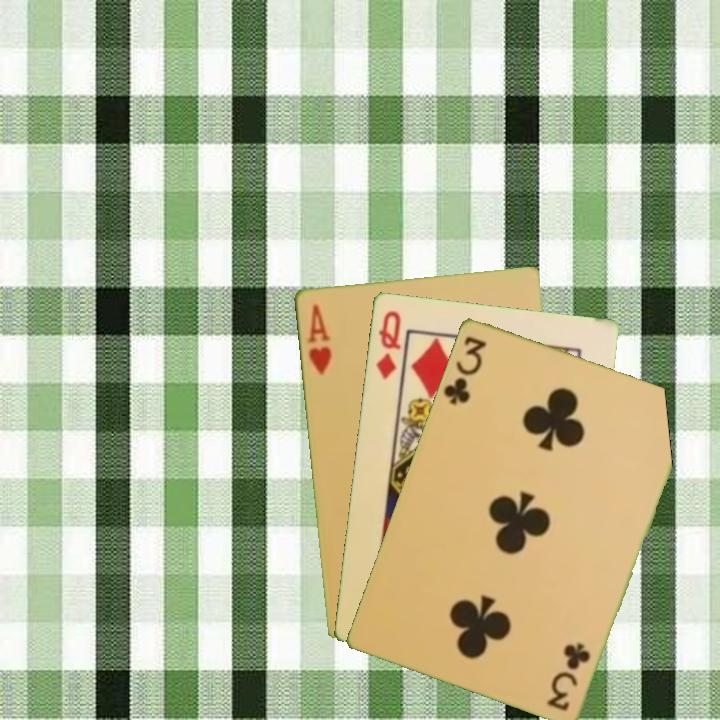3c: (439, 332, 489, 407), (545, 638, 593, 713)
Ah: (302, 300, 334, 378)
Qd: (372, 306, 404, 383)
